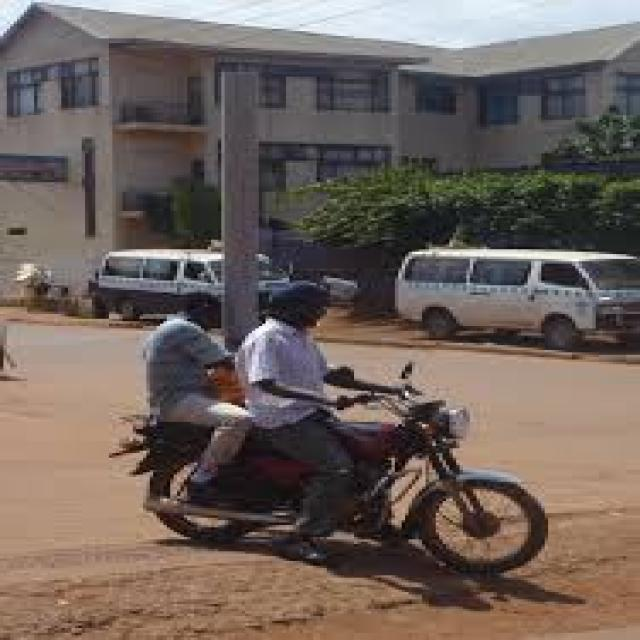bodaboda: (49, 351, 608, 616)
